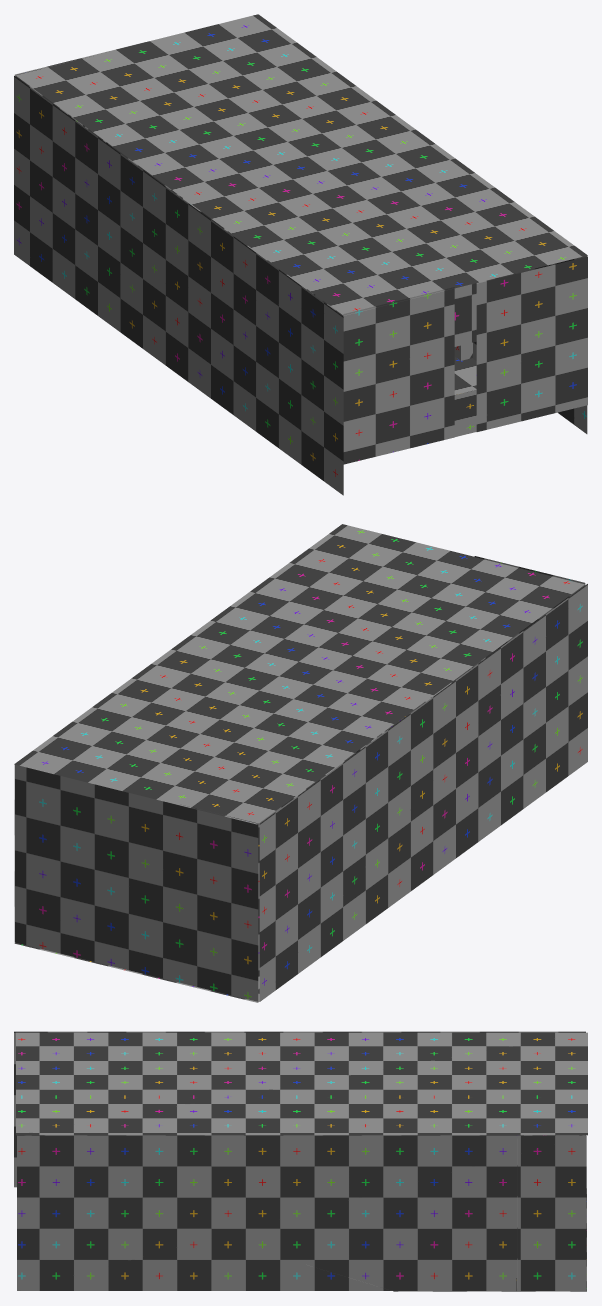
Rendered from GerardoModel.glb.
3 views of the same model, one above another, from view 1: azimuth 30°, elevation 25°; view 2: azimuth 150°, elevation 25°; view 3: azimuth 270°, elevation 25° (orthographic). The views are drawn at different scales.
Visible parts, largest first — view 1: MuroIzq, MuroIzq.001, MuroFrenteIzq, MuroFrenteDer, MuroFrenteAlto, MuroFrenteBajo, Plataforma, MuroDer; view 2: MuroIzq, MuroIzq.001, MuroFondo; view 3: MuroDer, MuroIzq, MuroIzq.001.
Part boxes in pixels (x1,y1,x2,y2): MuroIzq: (15, 14, 587, 315); MuroIzq.001: (14, 75, 343, 495); MuroFrenteIzq: (343, 287, 454, 464); MuroFrenteDer: (476, 256, 587, 431); MuroFrenteAlto: (454, 283, 476, 346); MuroFrenteBajo: (454, 390, 476, 436); Plataforma: (454, 356, 476, 394); MuroDer: (500, 256, 587, 433); MuroIzq: (14, 524, 584, 824); MuroIzq.001: (259, 584, 587, 1001); MuroFondo: (15, 764, 258, 1001); MuroDer: (17, 1135, 586, 1290); MuroIzq: (16, 1032, 587, 1135); MuroIzq.001: (14, 1031, 585, 1187).
Size of the model in its own units: 10.05 by 7.08 by 23.43.
Materials: 2 (2 with a texture image).
